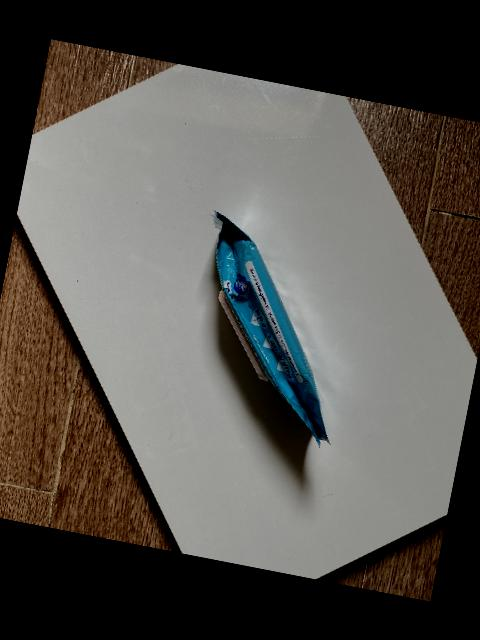Let-green_alcohol_wipes: (211, 210, 328, 444)
